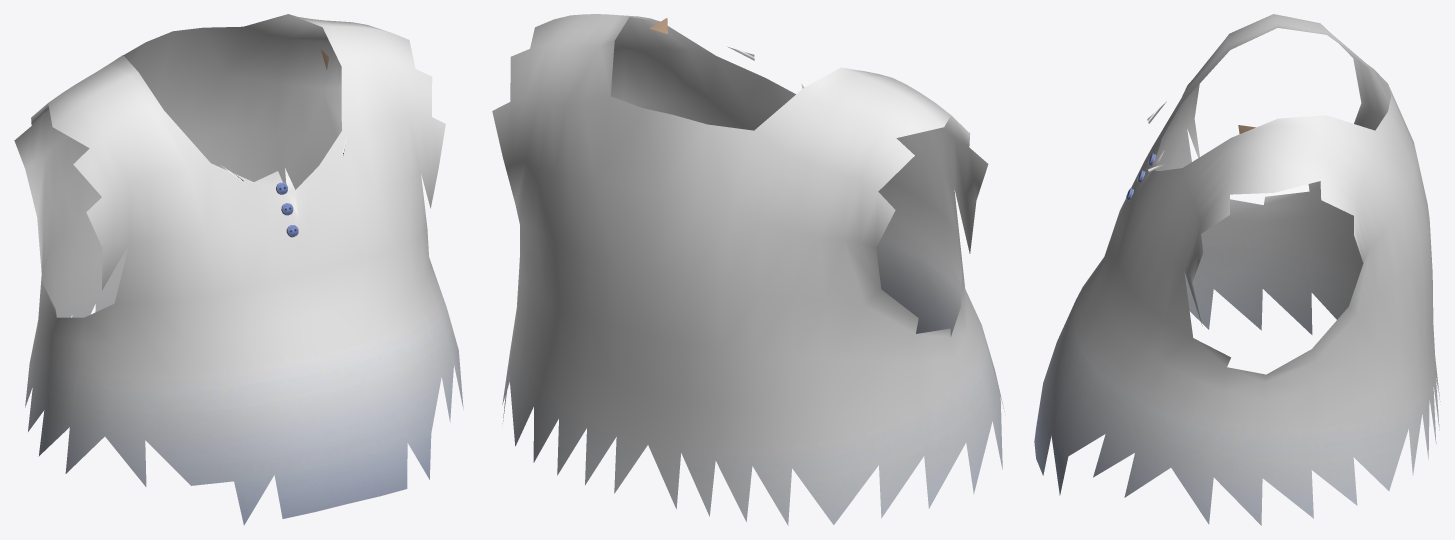
The model's file is crazydave_torso.obj.
3 views of the same model, side by side, from view 1: azimuth 30°, elevation 25°; view 2: azimuth 150°, elevation 25°; view 3: azimuth 270°, elevation 25° (orthographic). The views are drawn at different scales.
Visible parts, largest first — view 1: crazydave_torso; view 2: crazydave_torso; view 3: crazydave_torso.
Part boxes in pixels (box(x1,y1,x2,y2)): crazydave_torso: box(14, 14, 463, 525); crazydave_torso: box(492, 14, 1004, 525); crazydave_torso: box(1034, 14, 1440, 525).
Bounding box in the file's own units: 0.7471 × 0.6729 × 0.6553.
